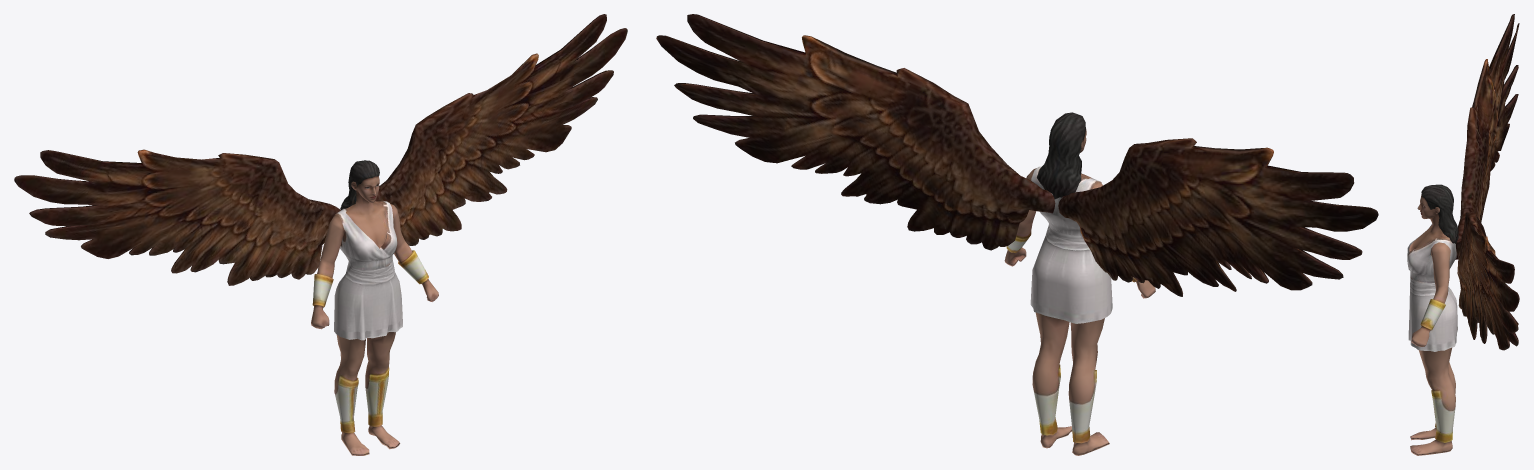
The model's file is 54-caladria.glb.
3 renders of one model, left to right at view 1: azimuth 30°, elevation 25°; view 2: azimuth 150°, elevation 25°; view 3: azimuth 270°, elevation 25°, orthographic. The views are drawn at different scales.
Bounding box in the file's own units: 4.8 × 2.46 × 0.8214.
1 material, 1 textured.
